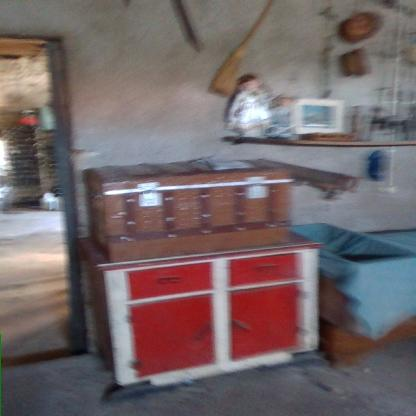semi: (1, 20, 97, 382)
